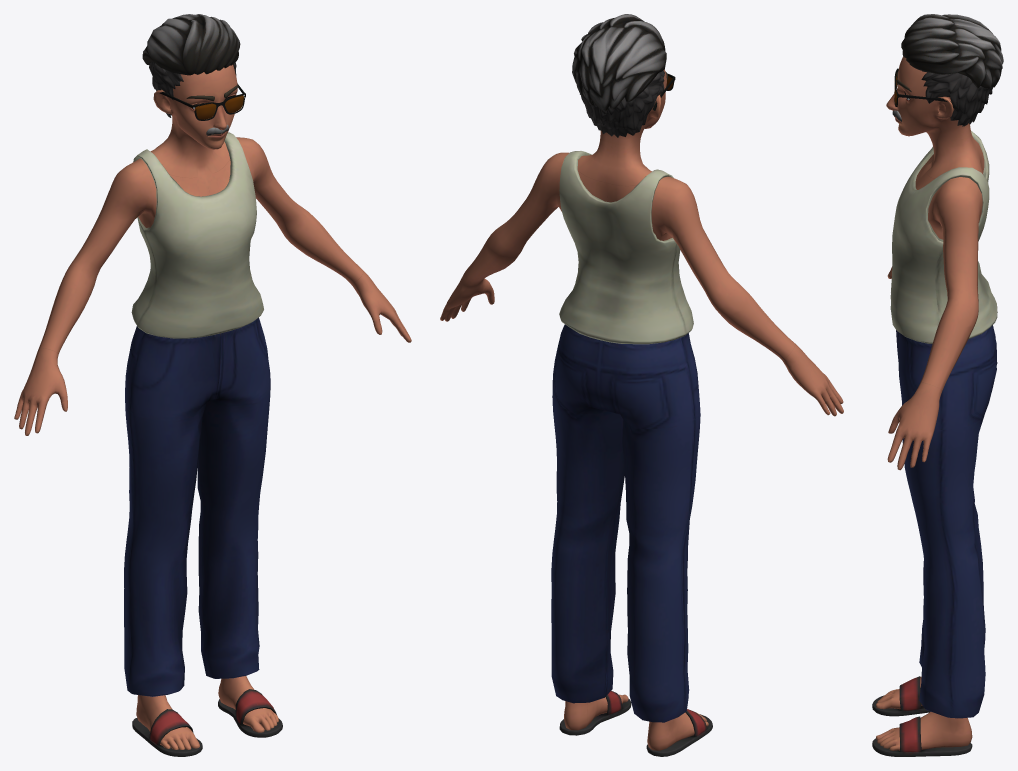
The model's file is YusufAbi_Mesh.obj.
3 views of the same model, side by side, from view 1: azimuth 30°, elevation 25°; view 2: azimuth 150°, elevation 25°; view 3: azimuth 270°, elevation 25° (orthographic).
Visible parts, largest first — view 1: YusufAbi_Mesh_0; view 2: YusufAbi_Mesh_0; view 3: YusufAbi_Mesh_0.
Part boxes in pixels (x1,y1,x2,y2): YusufAbi_Mesh_0: [14, 14, 411, 756]; YusufAbi_Mesh_0: [440, 14, 843, 756]; YusufAbi_Mesh_0: [872, 14, 1003, 756].
Size of the model in its own units: 1.06 by 1.84 by 0.3066.
Materials: 1 (1 with a texture image).
